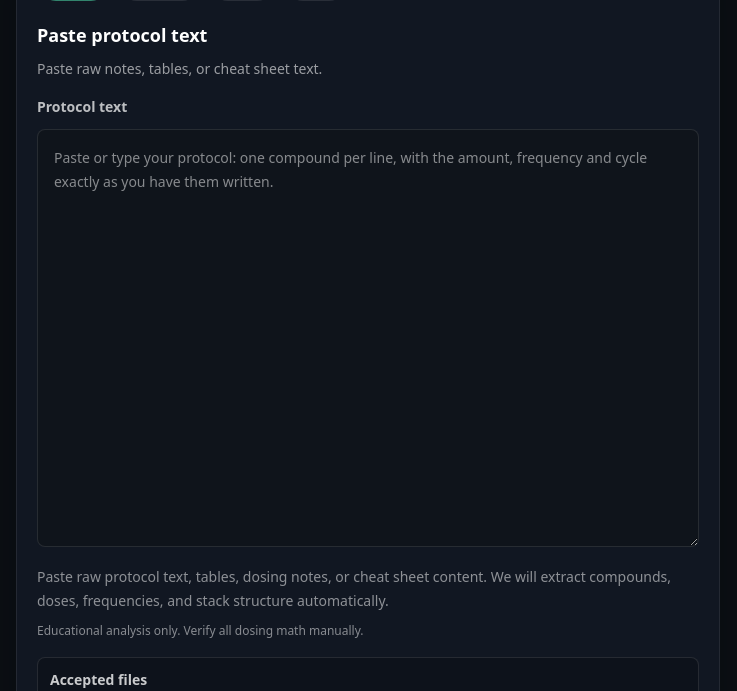
AnalyzerExperience › surfaces a safe 400 API validation message instead of the outage card
(page scrolled)
Type "BPC-157 500mcg daily" into the text box.
click(368, 338); type("BPC-157 500mcg daily")  # box [37,129,699,547]
(page scrolled)
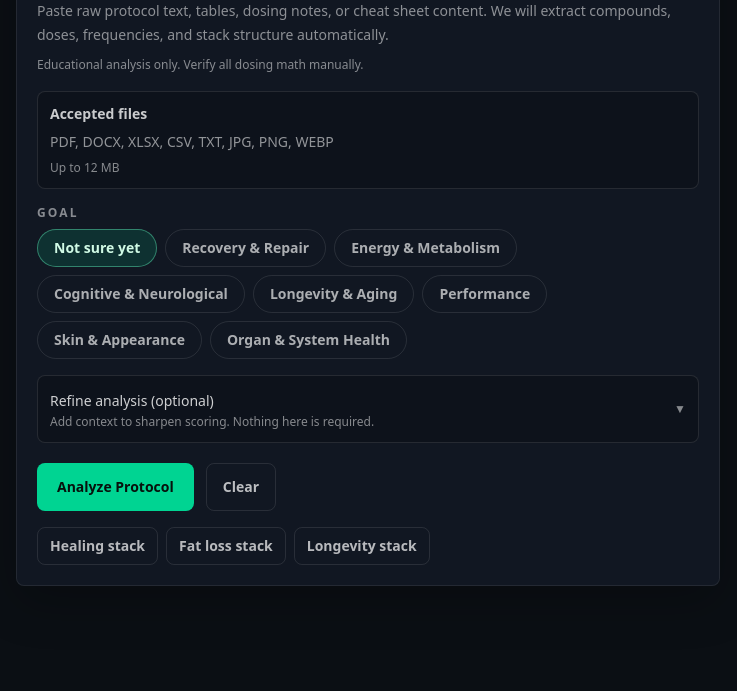
Click the button "Analyze Protocol".
click(115, 487)  # box [37,463,194,511]
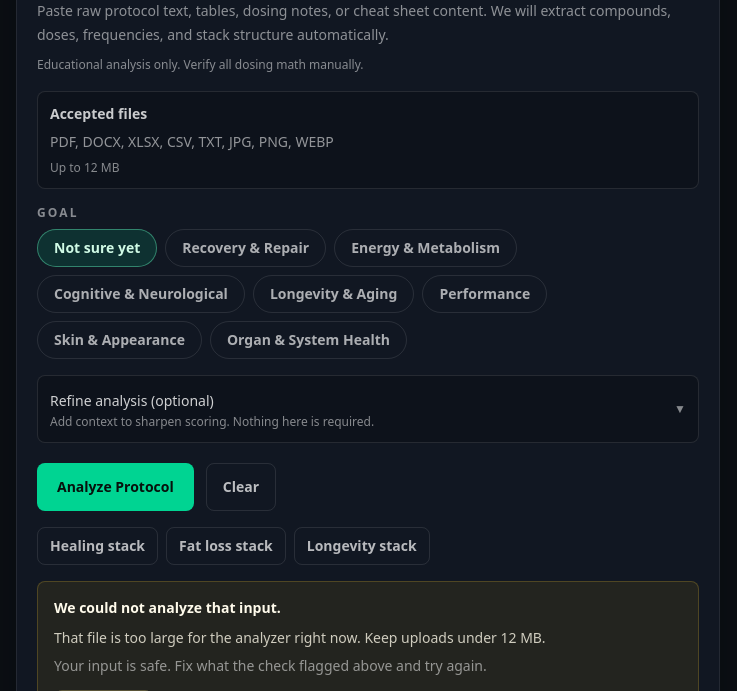
Expected: the text "That file is too large for the analyzer right now. Keep uploads under 12 MB." is shown, [54,628,546,647]
Expected: the text "We could not analyze that input." is shown, [54,598,281,617]
